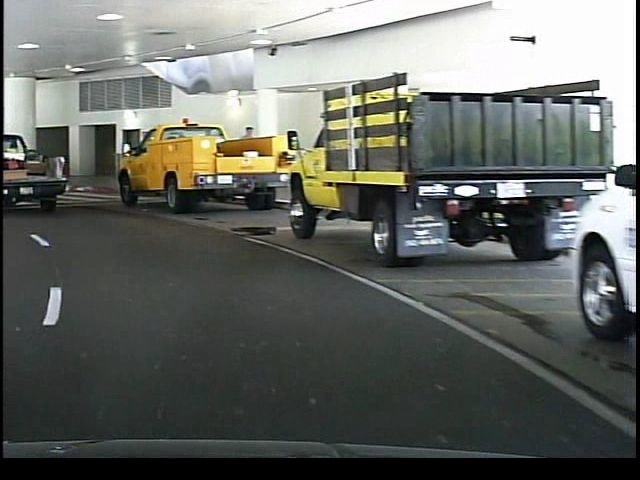person: (234, 123, 258, 198)
